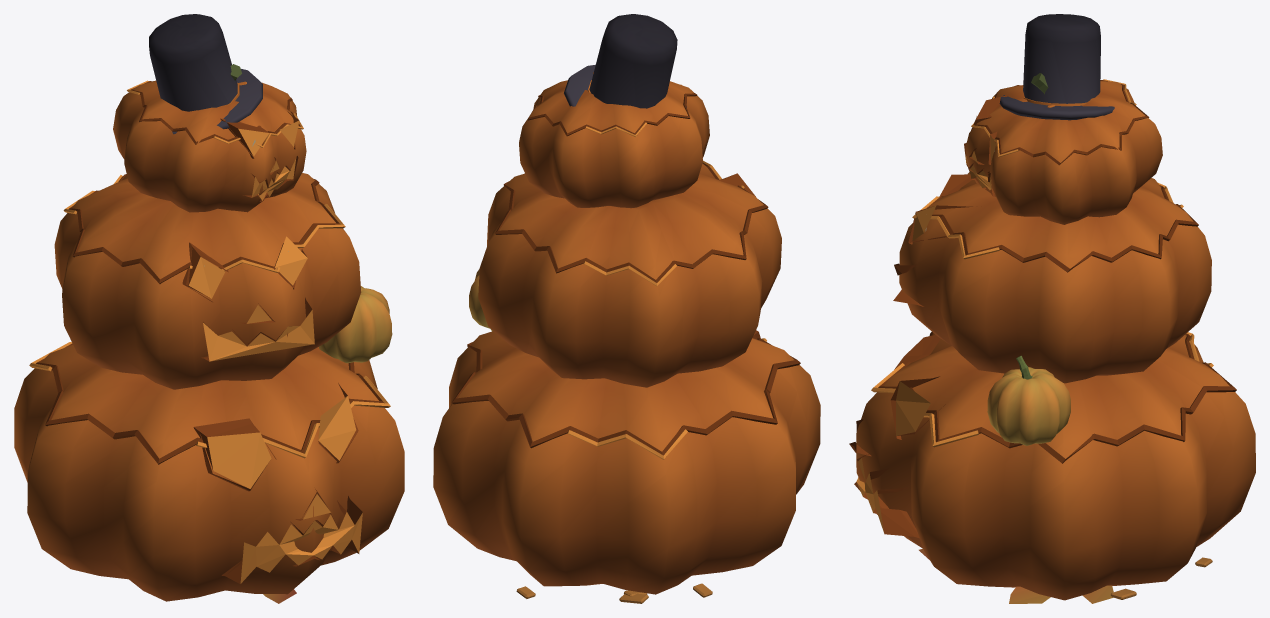
File: pumpkin_porch_stack_01.glb
The picture shows the model from 3 angles, left to right: view 1: azimuth 30°, elevation 25°; view 2: azimuth 150°, elevation 25°; view 3: azimuth 270°, elevation 25°; orthographic projection.
Parts seen in each view (by area): view 1: pumpkin_porch_stack_01; view 2: pumpkin_porch_stack_01; view 3: pumpkin_porch_stack_01.
Part boxes in pixels (box(x1,y1,x2,y2)): pumpkin_porch_stack_01: box(14, 14, 404, 603); pumpkin_porch_stack_01: box(433, 14, 820, 603); pumpkin_porch_stack_01: box(849, 14, 1255, 603).
Size of the model in its own units: 1.11 by 1.62 by 1.13.
